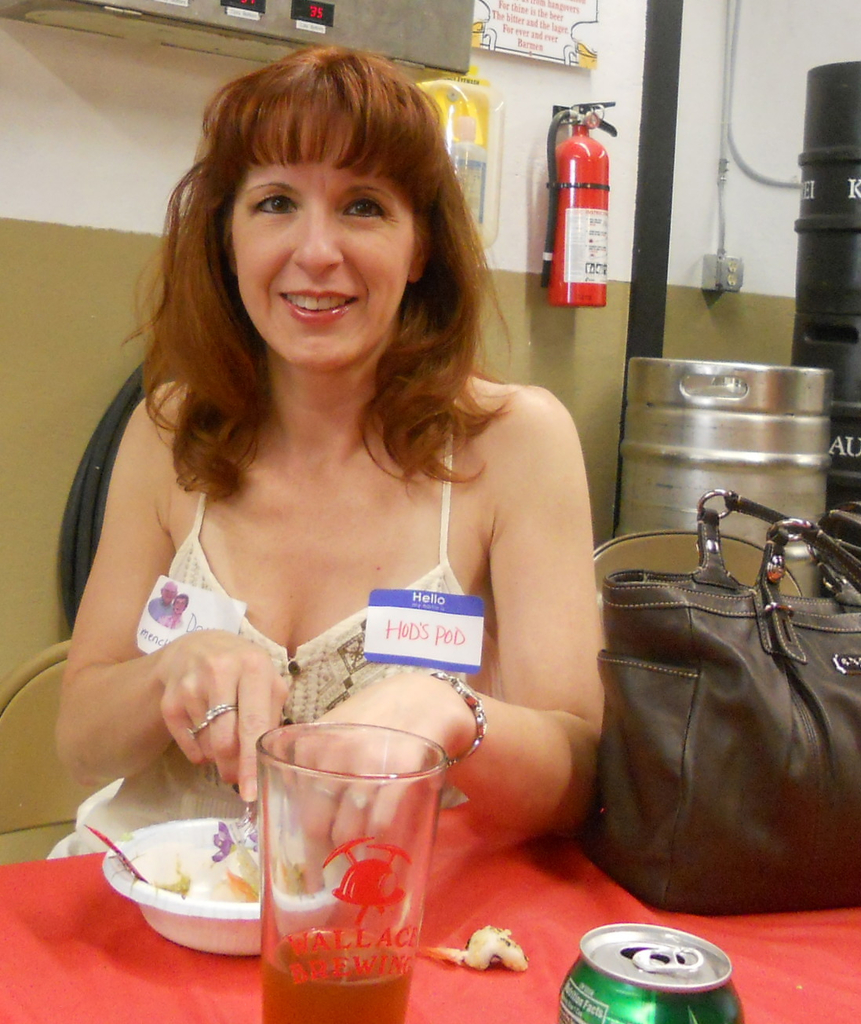Human_hand: (274, 669, 474, 890), (157, 629, 288, 802)
